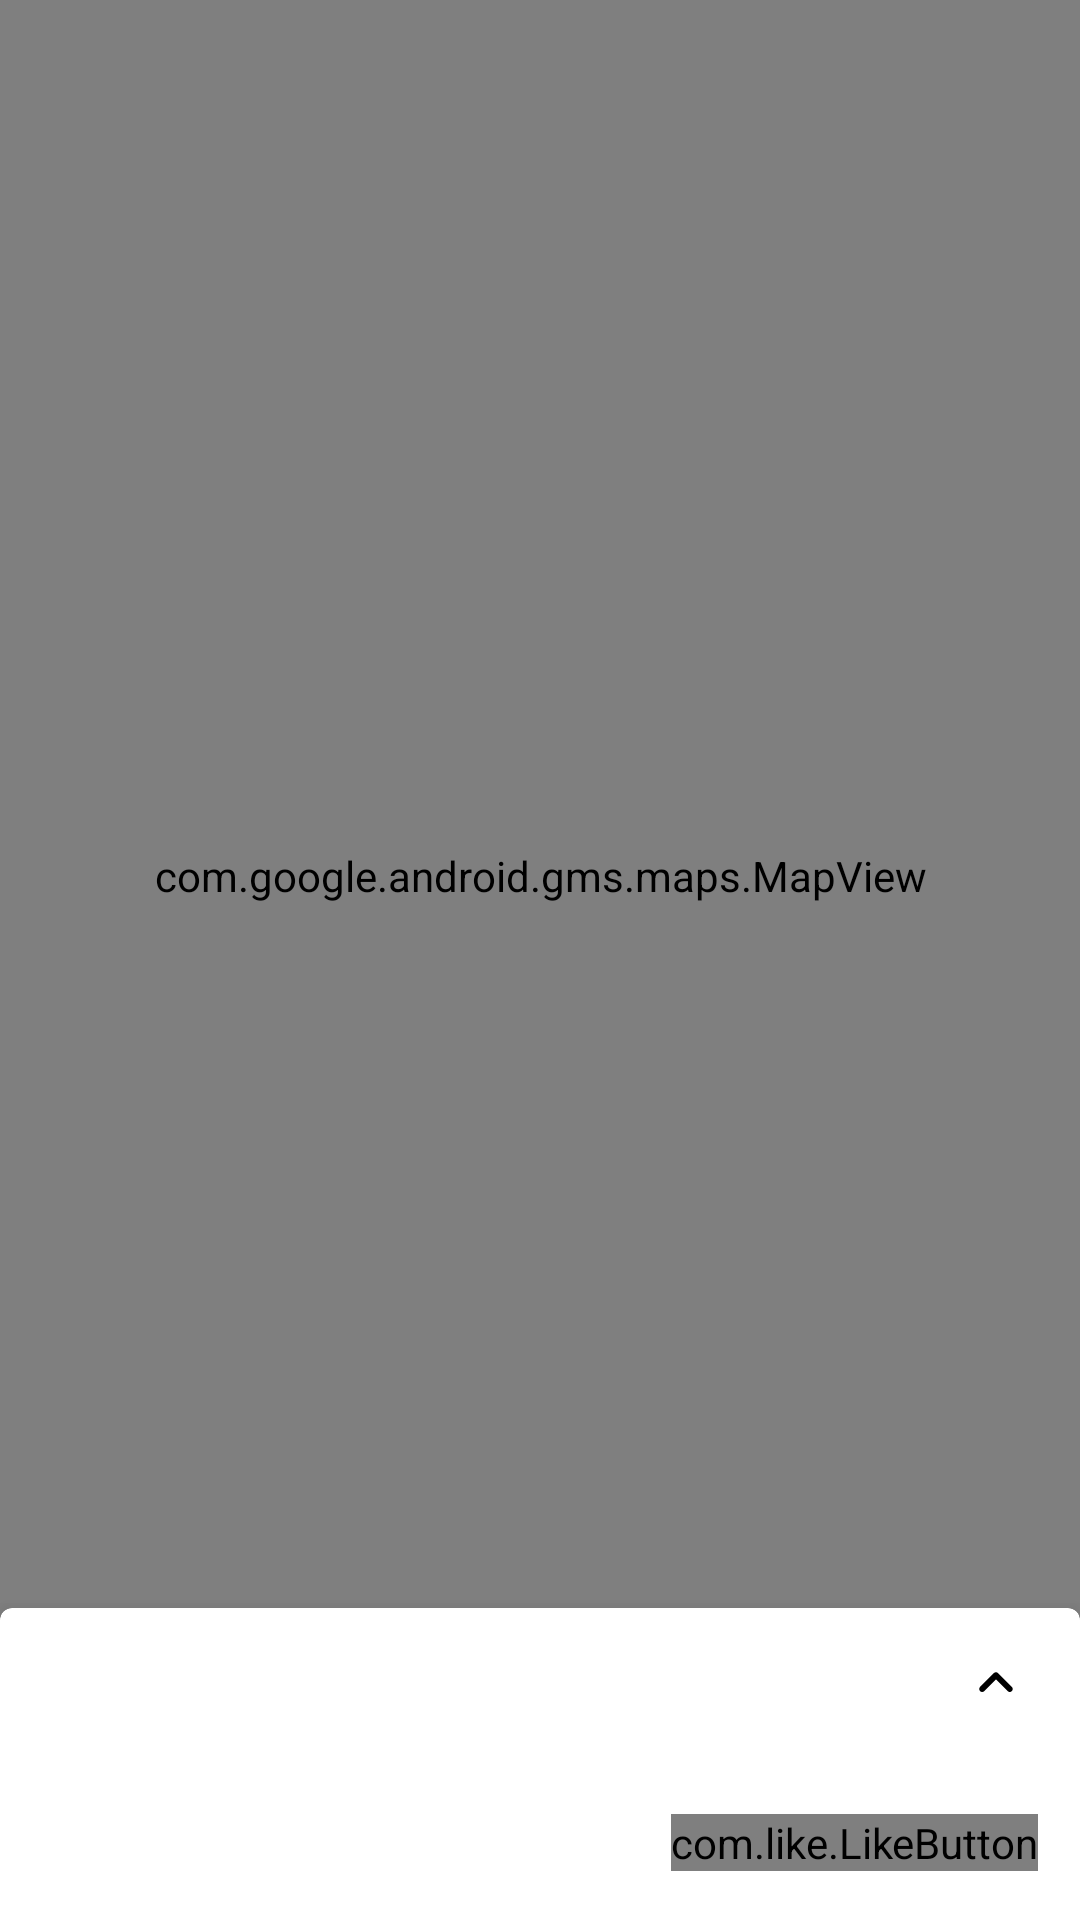

Icon click points for this 1080w x 1920h phone screenshot, format (x=x, y=y):
chevron up: (x=996, y=1682)
